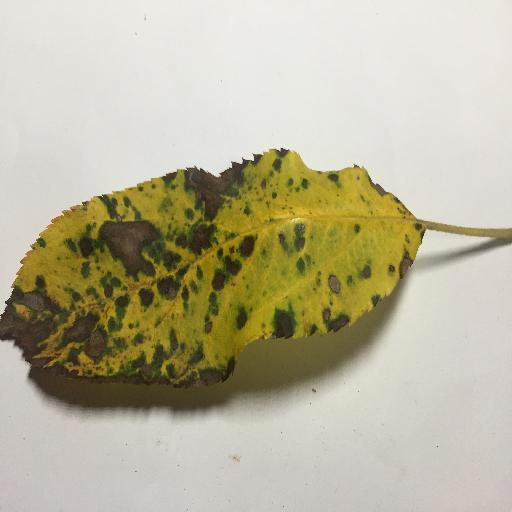Brown_Spot: (5, 114, 427, 428)
